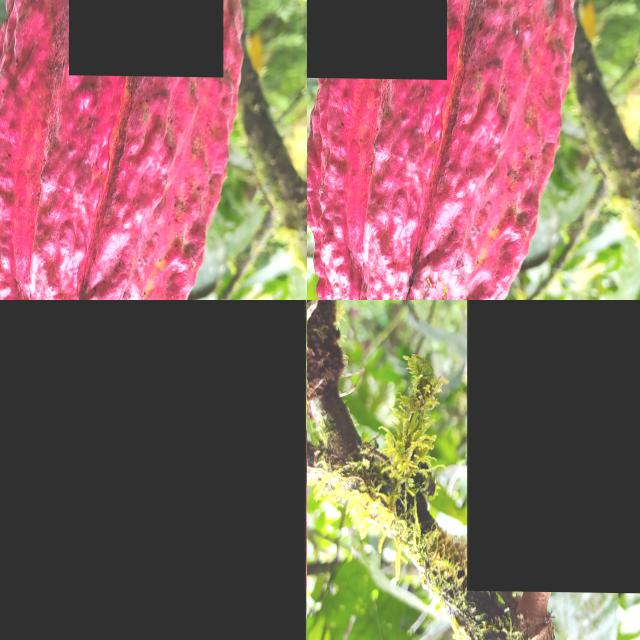Monilia: (68, 0, 223, 75)
Sana: (0, 300, 305, 640), (468, 300, 640, 593)
